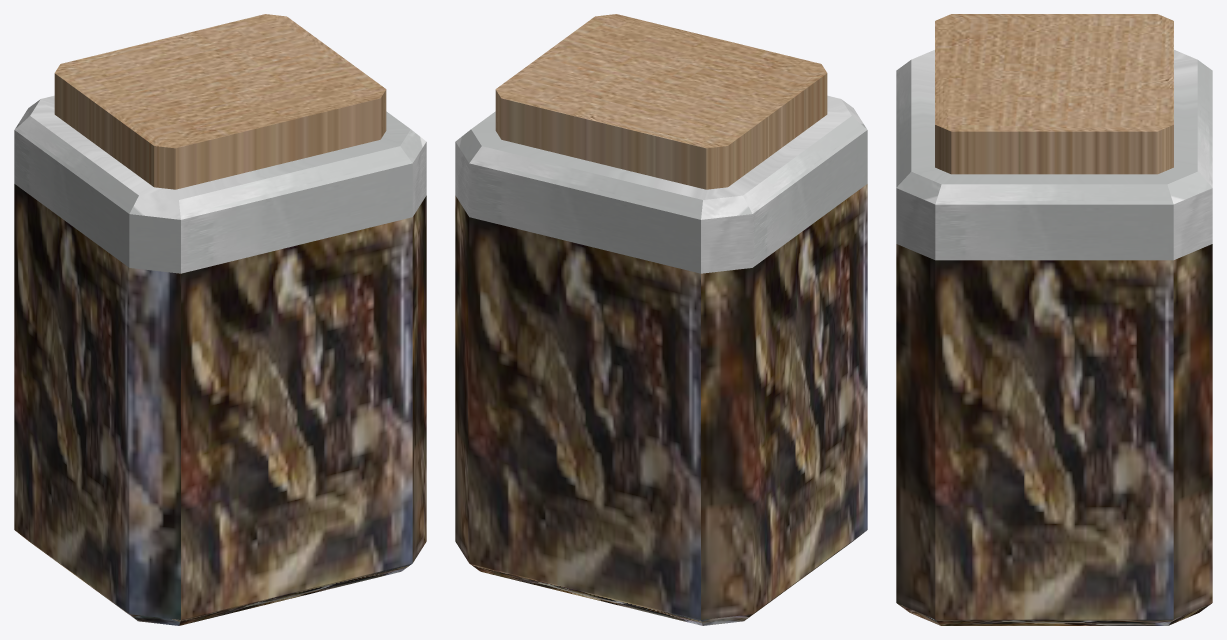
File: jar1.FBX
The picture shows the model from 3 angles, left to right: view 1: azimuth 30°, elevation 25°; view 2: azimuth 150°, elevation 25°; view 3: azimuth 270°, elevation 25°; orthographic projection. The views are drawn at different scales.
Visible parts, largest first — view 1: Box001, Object001, Object002; view 2: Box001, Object001, Object002; view 3: Box001, Object001, Object002.
Part boxes in pixels (bbox=[...]): Box001: bbox=[14, 184, 426, 625]; Object001: bbox=[54, 14, 386, 189]; Object002: bbox=[14, 95, 426, 273]; Box001: bbox=[455, 184, 867, 625]; Object001: bbox=[495, 14, 827, 189]; Object002: bbox=[455, 95, 867, 273]; Box001: bbox=[896, 244, 1212, 625]; Object001: bbox=[935, 14, 1173, 174]; Object002: bbox=[896, 50, 1212, 260].
Bounding box in the file's own units: 43.7 × 65.57 × 38.9.
Materials: 3 (3 with a texture image).
